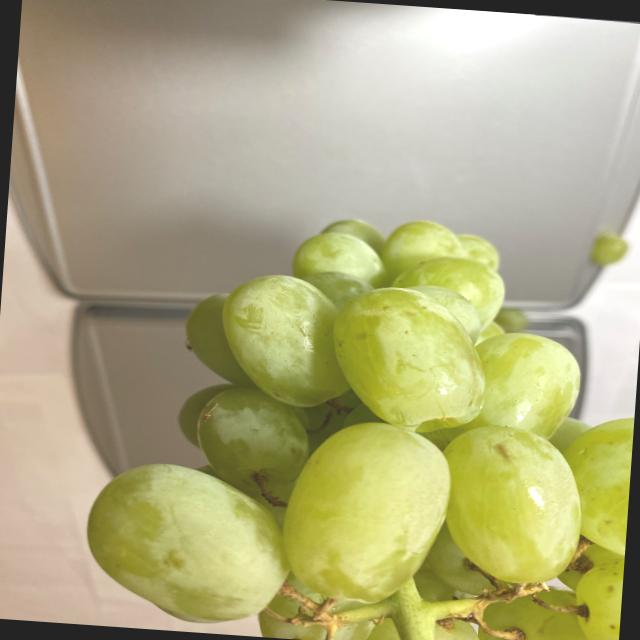grapes: (75, 192, 640, 640)
